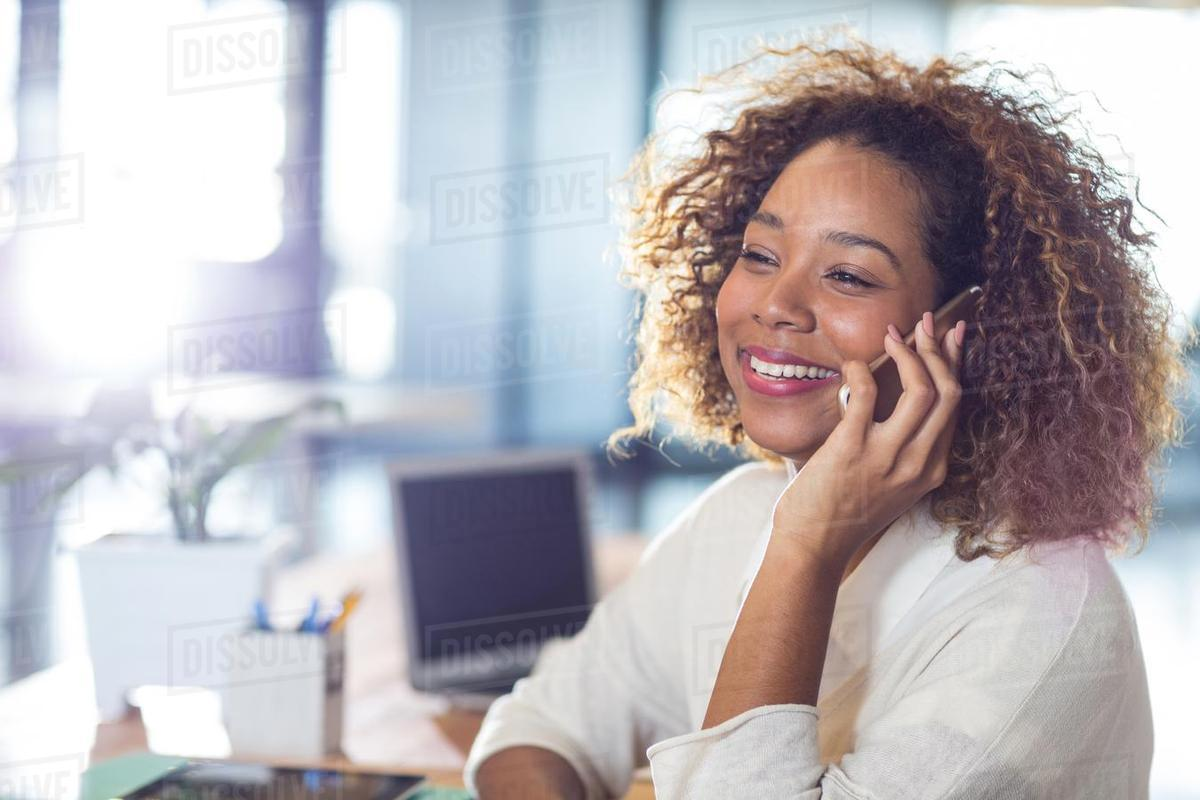phone: (825, 284, 985, 485)
talk: (718, 209, 992, 549)
